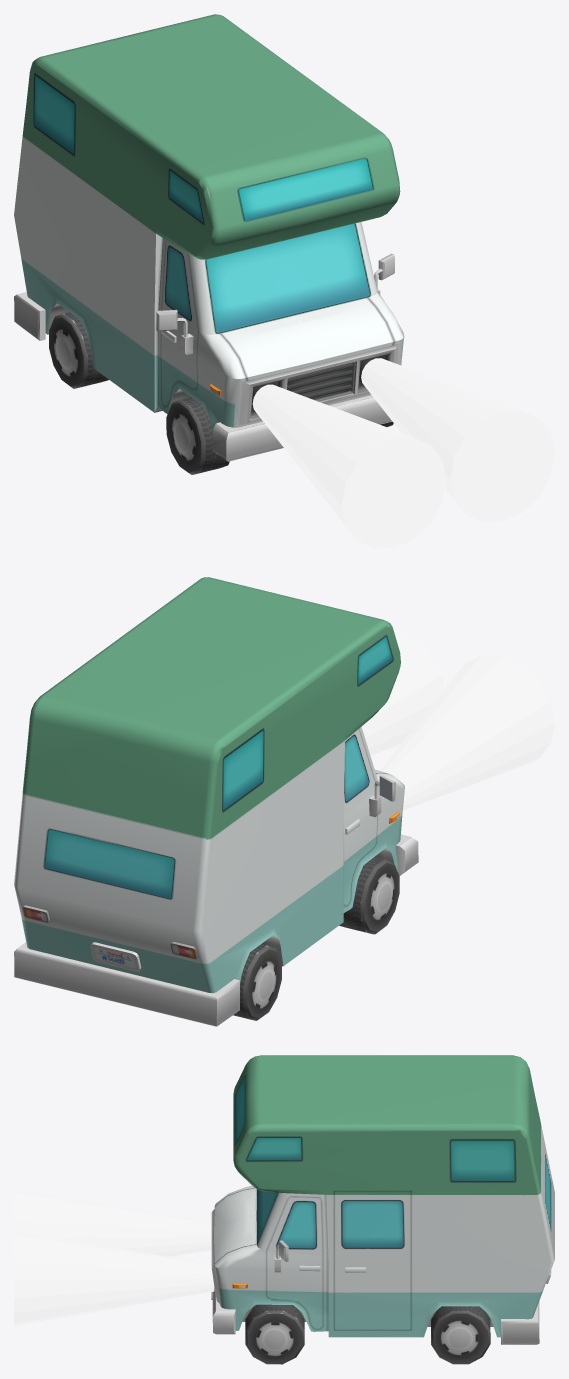
3 views of the same model, one above another, from view 1: azimuth 30°, elevation 25°; view 2: azimuth 150°, elevation 25°; view 3: azimuth 270°, elevation 25° (orthographic). The views are drawn at different scales.
Parts seen in each view (by area): view 1: Cube.003, liht-cone, liht-cone.001; view 2: Cube.003, liht-cone, liht-cone.001; view 3: Cube.003, liht-cone.001, liht-cone.
Part boxes in pixels (x1,y1,x2,y2): Cube.003: (14,14,404,474); liht-cone: (252,384,446,548); liht-cone.001: (361,358,554,521); Cube.003: (14,577,418,1026); liht-cone: (380,655,554,810); liht-cone.001: (361,629,444,755); Cube.003: (211,1055,554,1364); liht-cone.001: (14,1230,214,1325); liht-cone: (14,1188,211,1257).
Bounding box in the file's own units: 1.81 × 2.19 × 4.52.
Materials: 3 (1 with a texture image).
